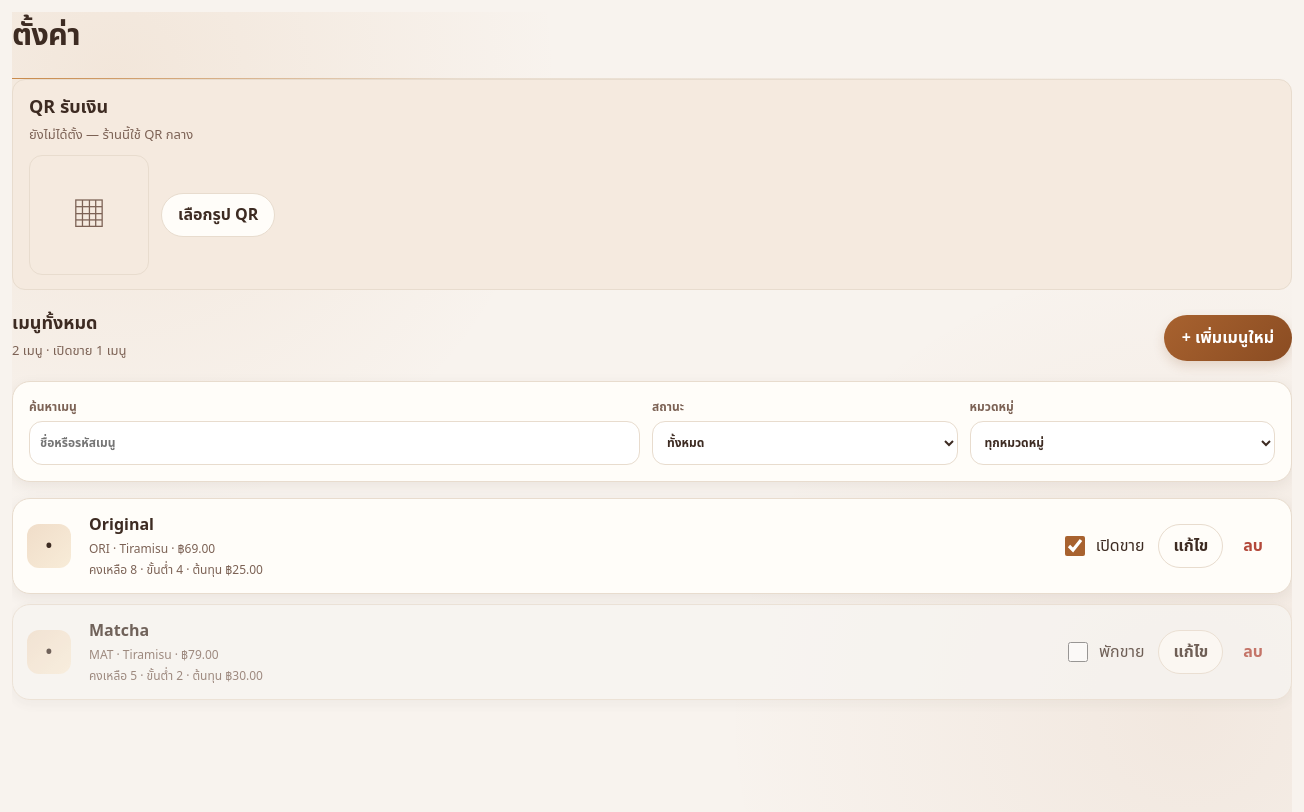
Test: ProductsAdminPage › confirms deletion and handles the backend deleted response without assuming hard versus soft delete
The image size is (1304, 812).
expect the text "Original" is shown: met, box 89,513 -> 154,537
Click the button with aria-label "ลบ Original".
click(1253, 546)  # box 1229,524 -> 1277,568
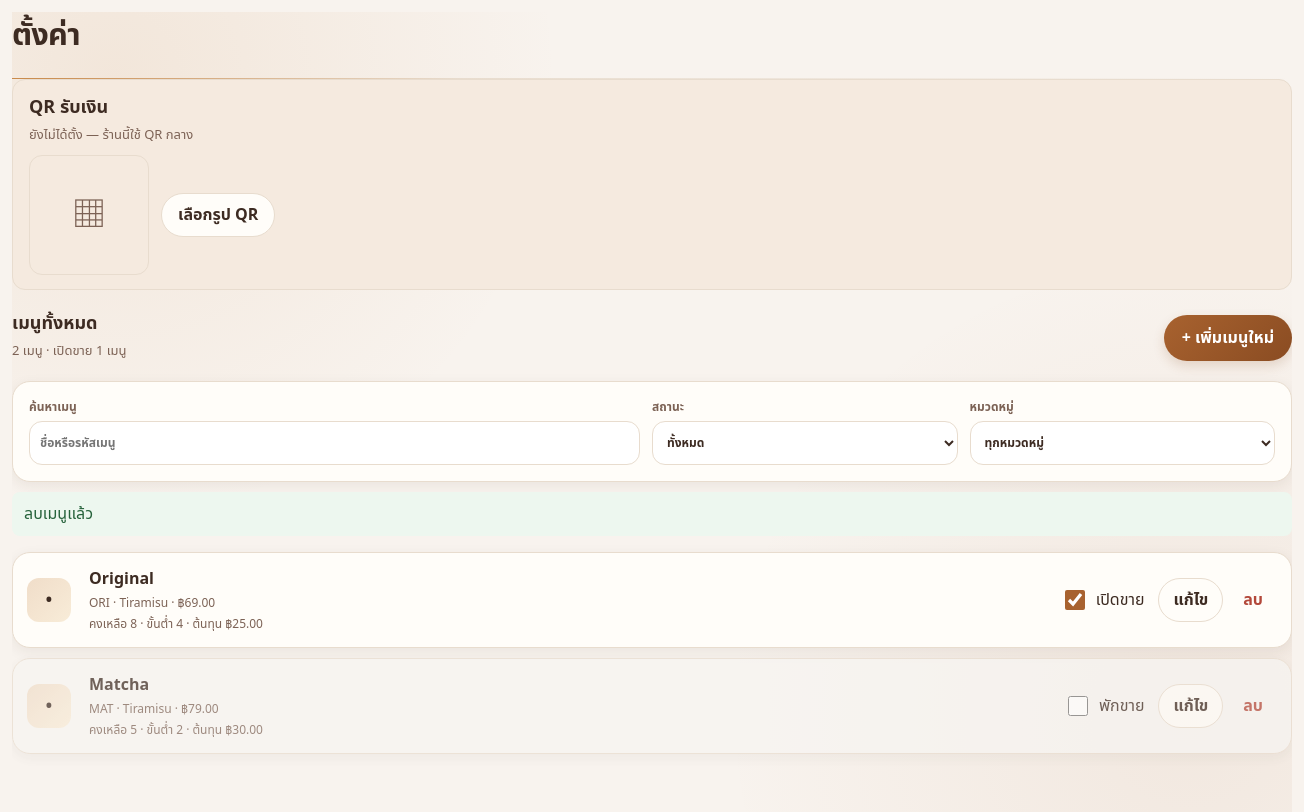
expect the message reads "ลบเมนูแล้ว": met, box 24,502 -> 93,526
